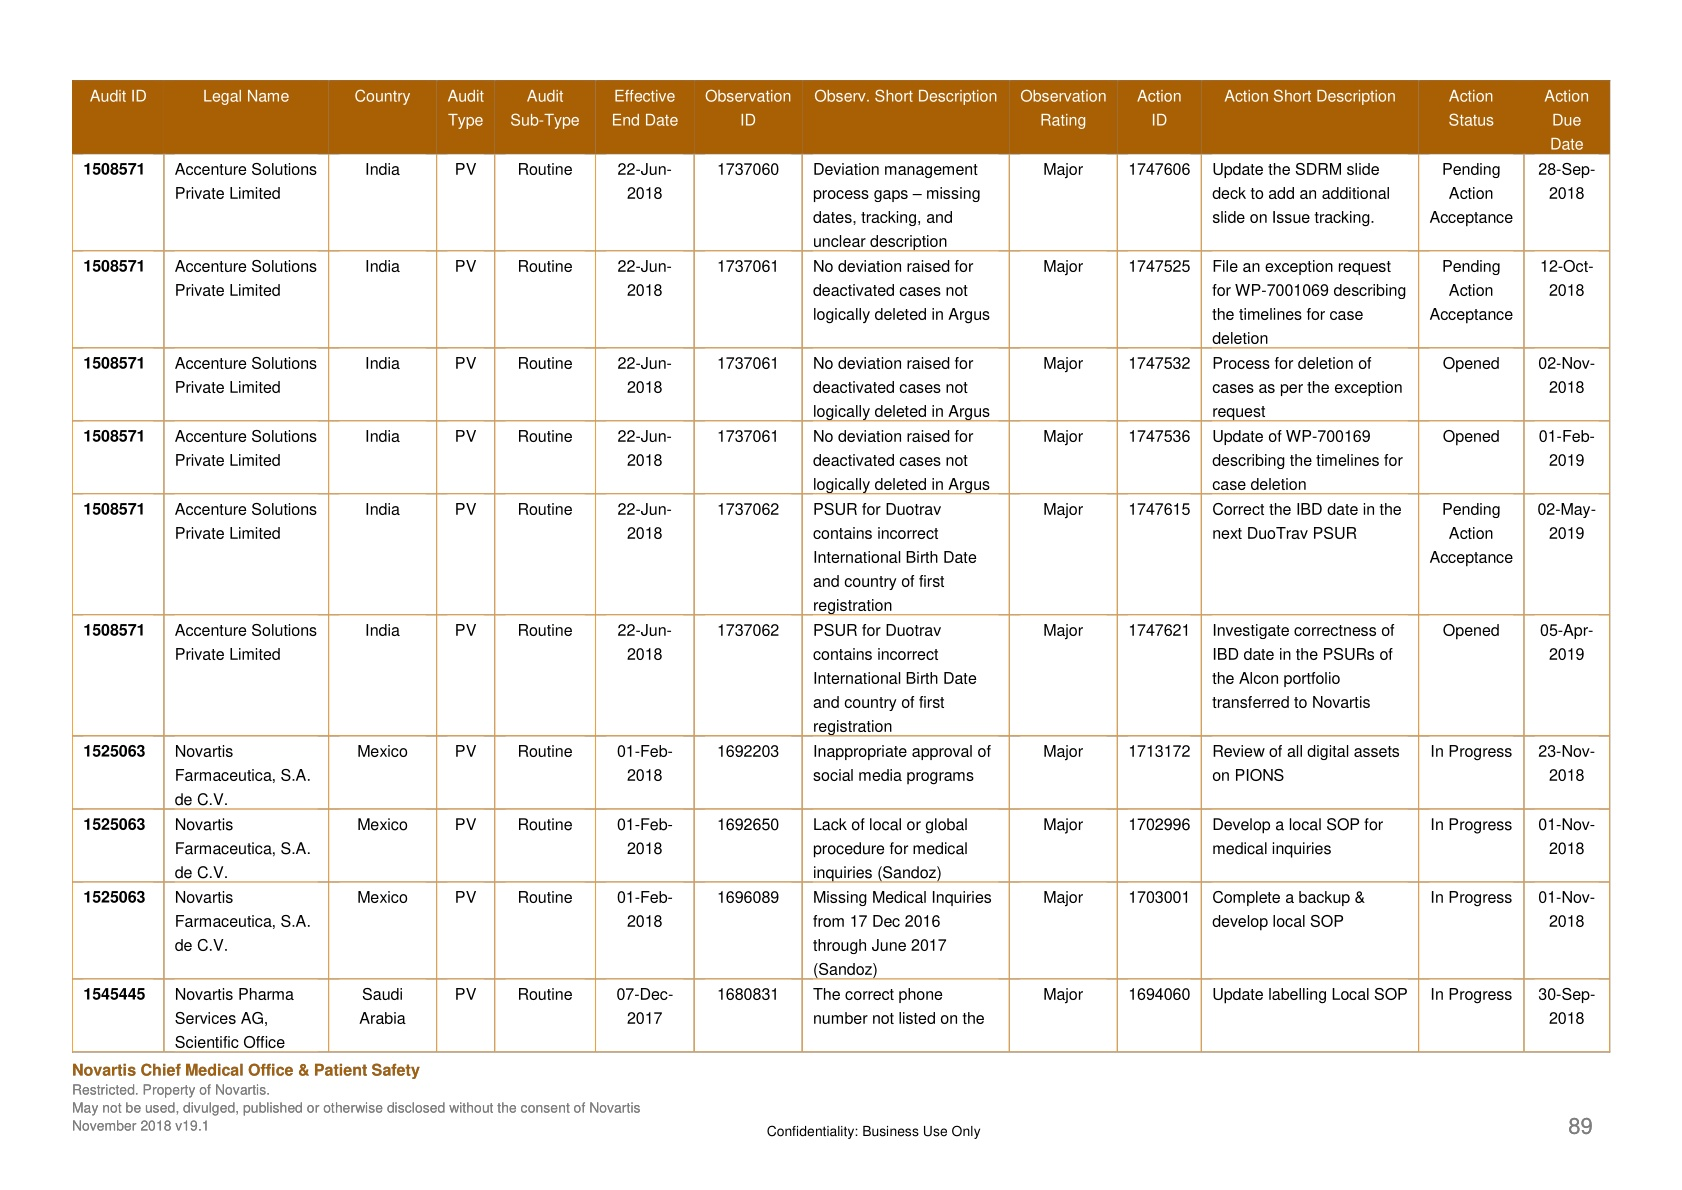full_lined: (71, 79, 1611, 1053)
